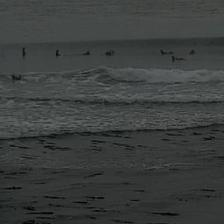surfer: (11, 74, 21, 81), (160, 50, 174, 55), (172, 56, 183, 62), (104, 50, 115, 55), (82, 50, 91, 55), (189, 49, 196, 55), (22, 46, 26, 56), (55, 49, 60, 56), (0, 50, 2, 58)
